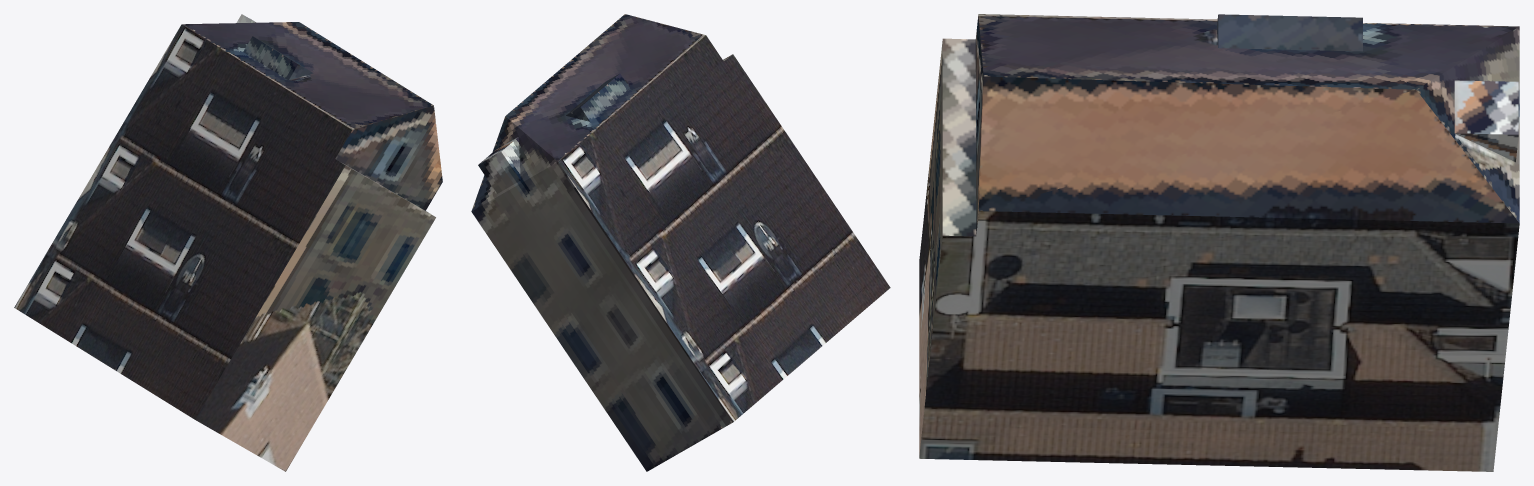
The picture shows the model from 3 angles, left to right: view 1: azimuth 30°, elevation 25°; view 2: azimuth 150°, elevation 25°; view 3: azimuth 270°, elevation 25°; orthographic projection. The views are drawn at different scales.
Parts seen in each view (by area): view 1: BAG_0599100000688699 (×6); view 2: BAG_0599100000688699 (×6); view 3: BAG_0599100000688699 (×6).
Part boxes in pixels (x1=…): BAG_0599100000688699 (×6): x1=14, y1=14, x2=442, y2=471; BAG_0599100000688699 (×6): x1=471, y1=14, x2=890, y2=471; BAG_0599100000688699 (×6): x1=919, y1=14, x2=1519, y2=471.
Size of the model in its own units: 10.94 by 12.55 by 12.47.
Materials: 6 (6 with a texture image).
